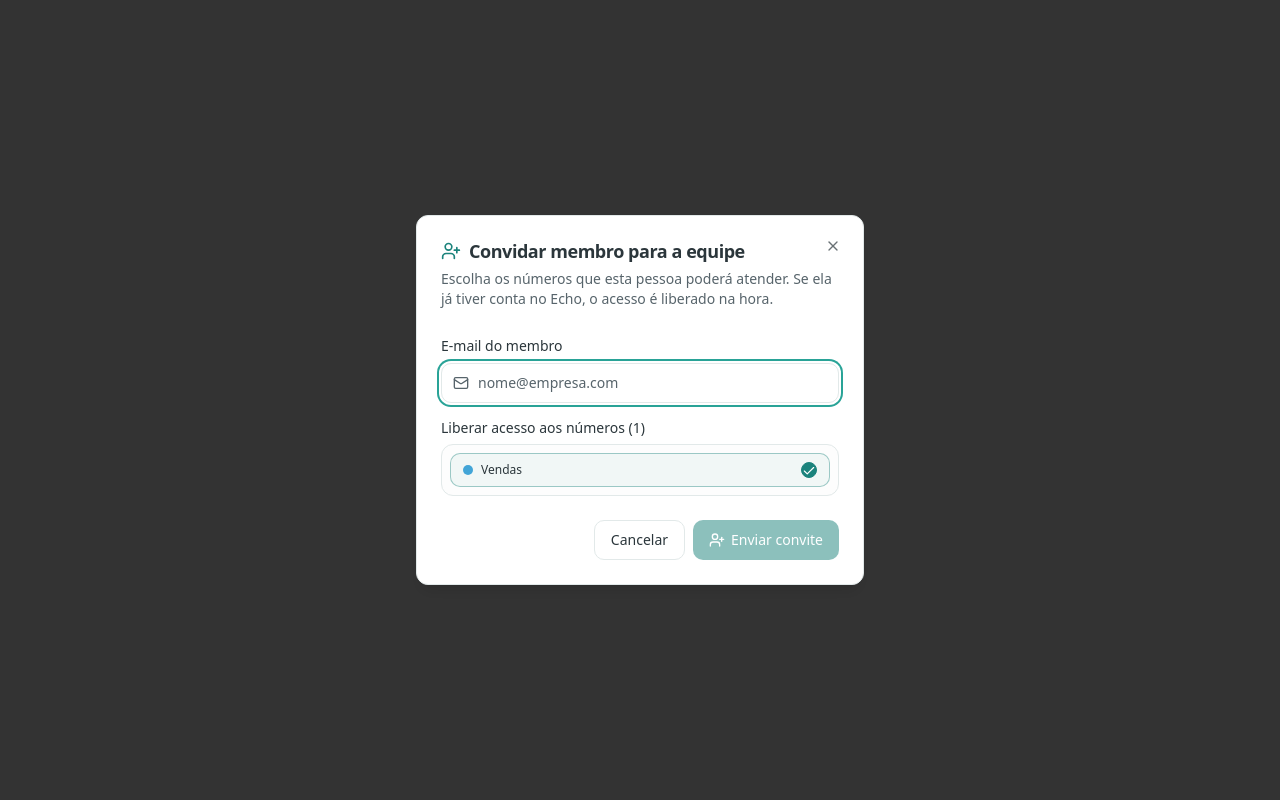
InviteMemberDialog: link do convite › e-mail enviado diz para quem foi
The image size is (1280, 800).
In the field labelled "E-mail do membro": (640, 382) top-left (441, 362), bottom-right (839, 402), type "agente@example.com"
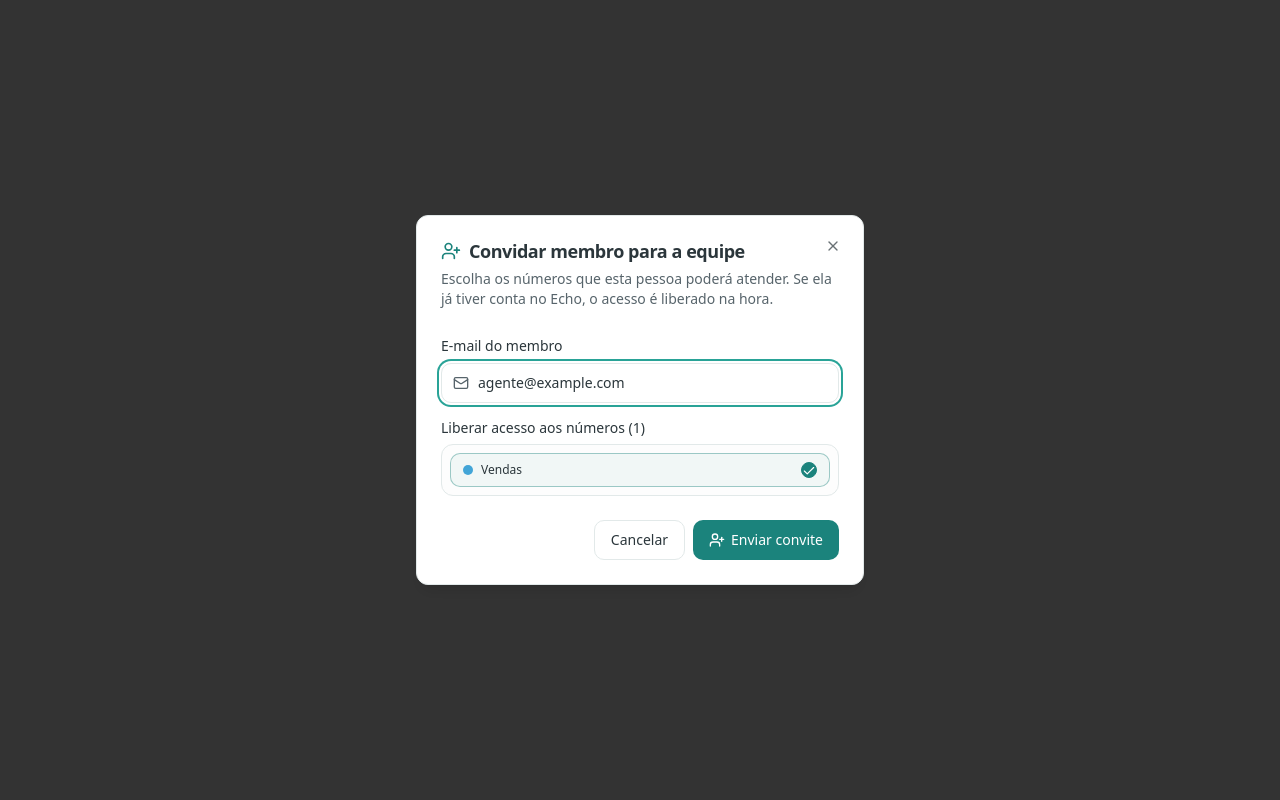
Click the button "Enviar convite": click(766, 540) top-left (693, 520), bottom-right (839, 560)
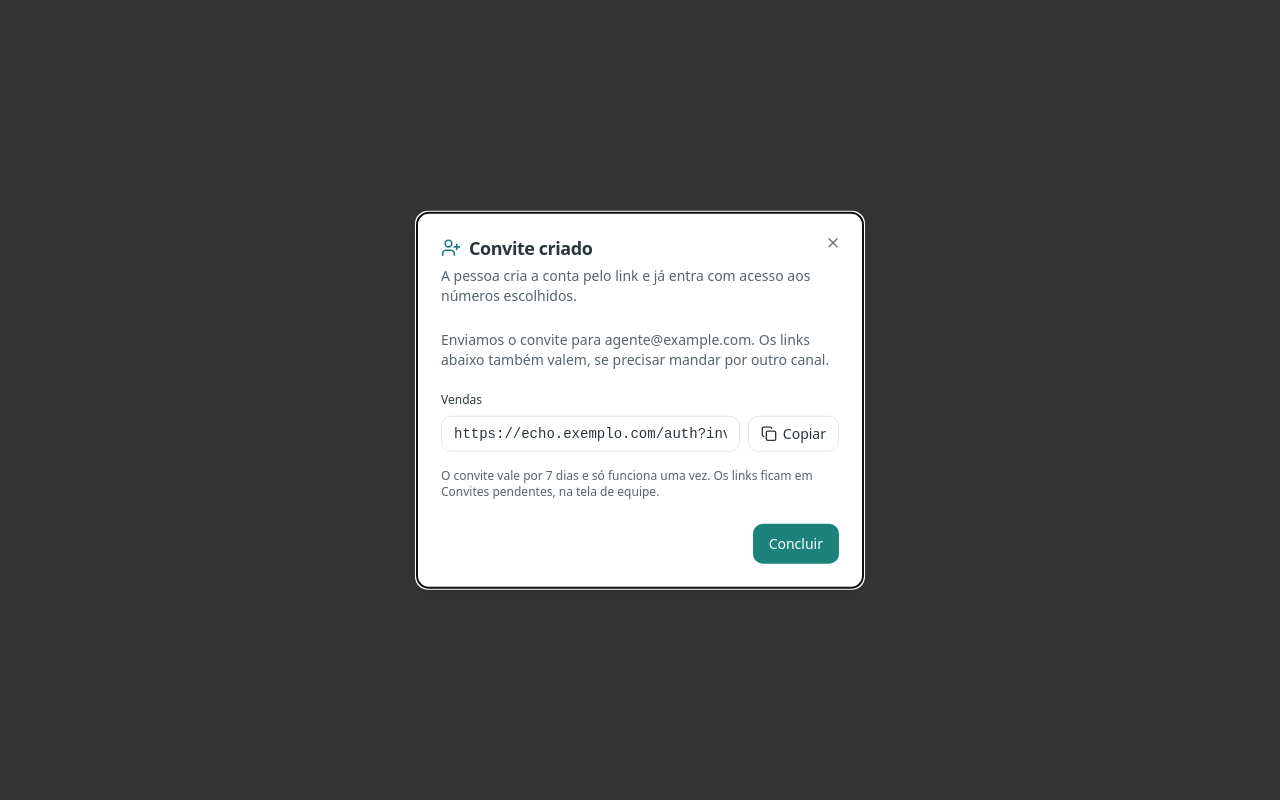
Expected: the text "Enviamos o convite para agente@example.com" is shown, top-left (441, 329), bottom-right (829, 368)
